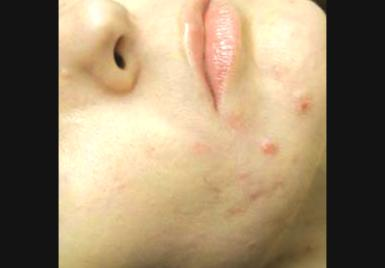Acne: (290, 94, 312, 114), (258, 138, 274, 156), (248, 188, 256, 198)
